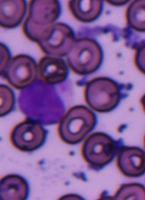L: (18, 78, 73, 125)
